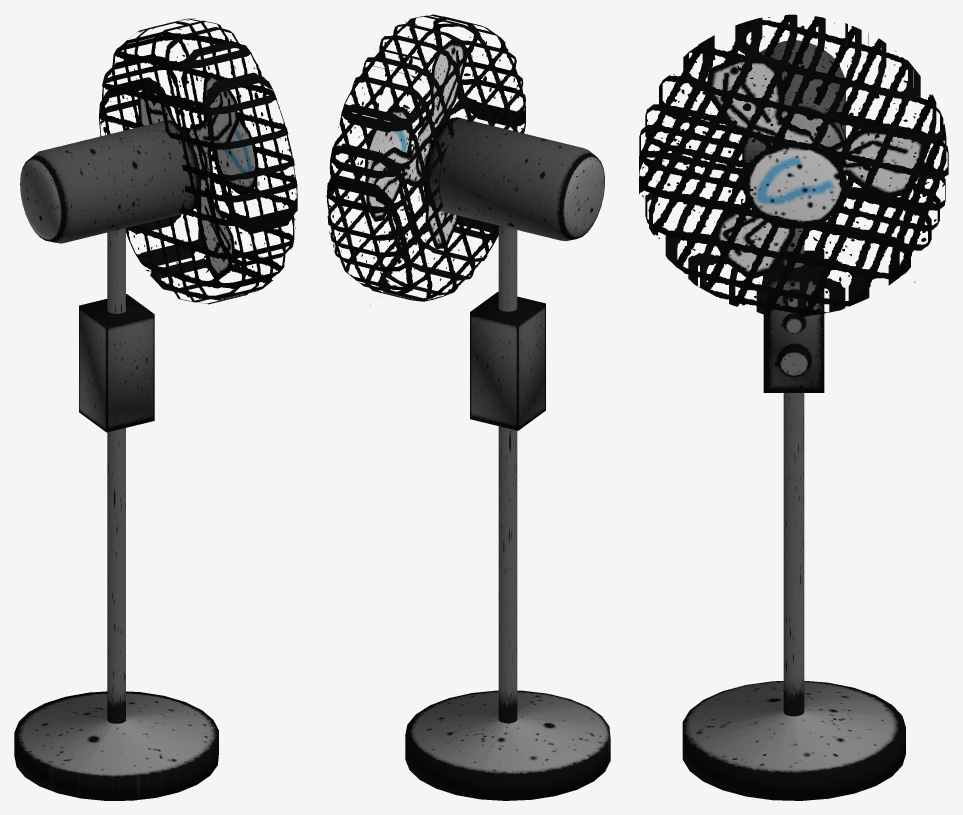
The model's file is fan.obj.
3 renders of one model, left to right at view 1: azimuth 30°, elevation 25°; view 2: azimuth 150°, elevation 25°; view 3: azimuth 270°, elevation 25°, orthographic. The views are drawn at different scales.
Visible parts, largest first — view 1: Cylinder; view 2: Cylinder; view 3: Cylinder.
Part boxes in pixels (left/top/right/bottom): Cylinder: left=14, top=18, right=297, bottom=800; Cylinder: left=326, top=14, right=610, bottom=800; Cylinder: left=639, top=14, right=948, bottom=800.
Bounding box in the file's own units: 2.33 × 7.6 × 2.76.
